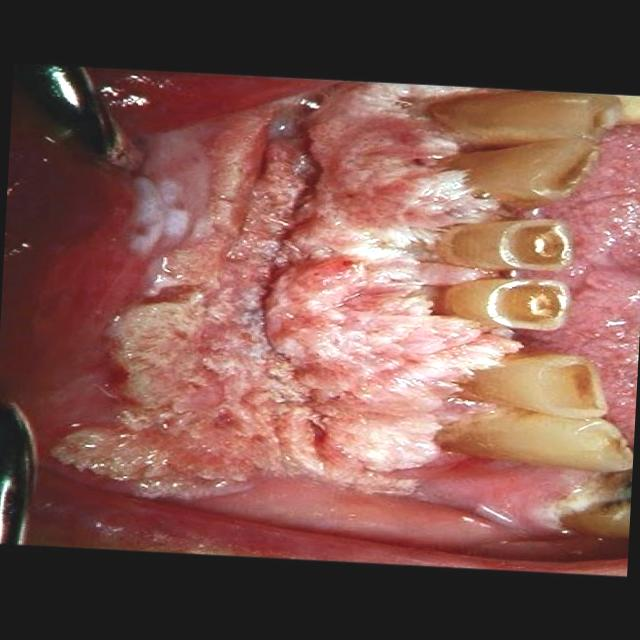Cancer: (48, 69, 520, 542), (522, 127, 640, 557)
